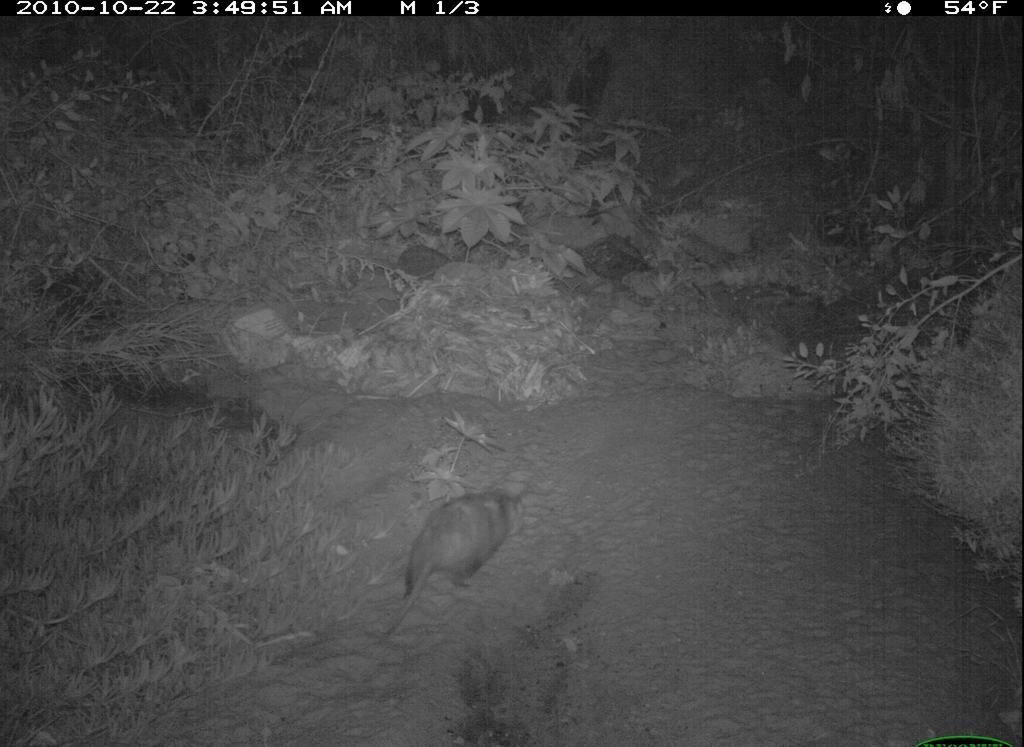opossum: (374, 484, 539, 644)
